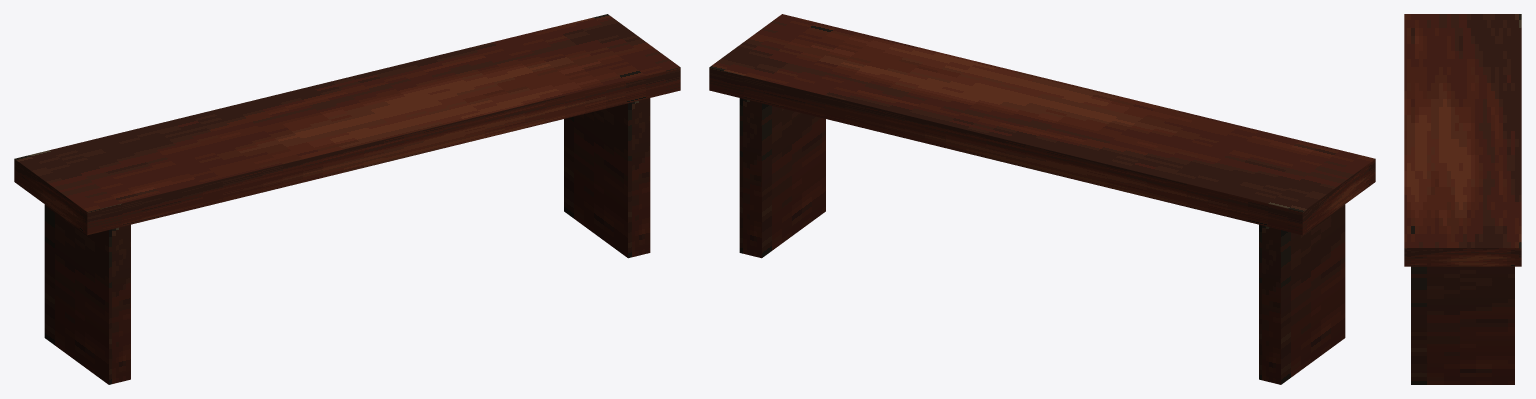
Rendered from prop_benchmusic-1.glb.
The picture shows the model from 3 angles, left to right: view 1: azimuth 30°, elevation 25°; view 2: azimuth 150°, elevation 25°; view 3: azimuth 270°, elevation 25°; orthographic projection. The views are drawn at different scales.
Visible parts, largest first — view 1: prop_benchmusic-1; view 2: prop_benchmusic-1; view 3: prop_benchmusic-1.
Boxes of the visible parts, x1,y1,x2,y2 form: prop_benchmusic-1: [14, 14, 680, 384]; prop_benchmusic-1: [709, 14, 1375, 384]; prop_benchmusic-1: [1404, 14, 1521, 384].
Size of the model in its own units: 1.6 by 0.47 by 0.34.
1 material, 1 textured.
